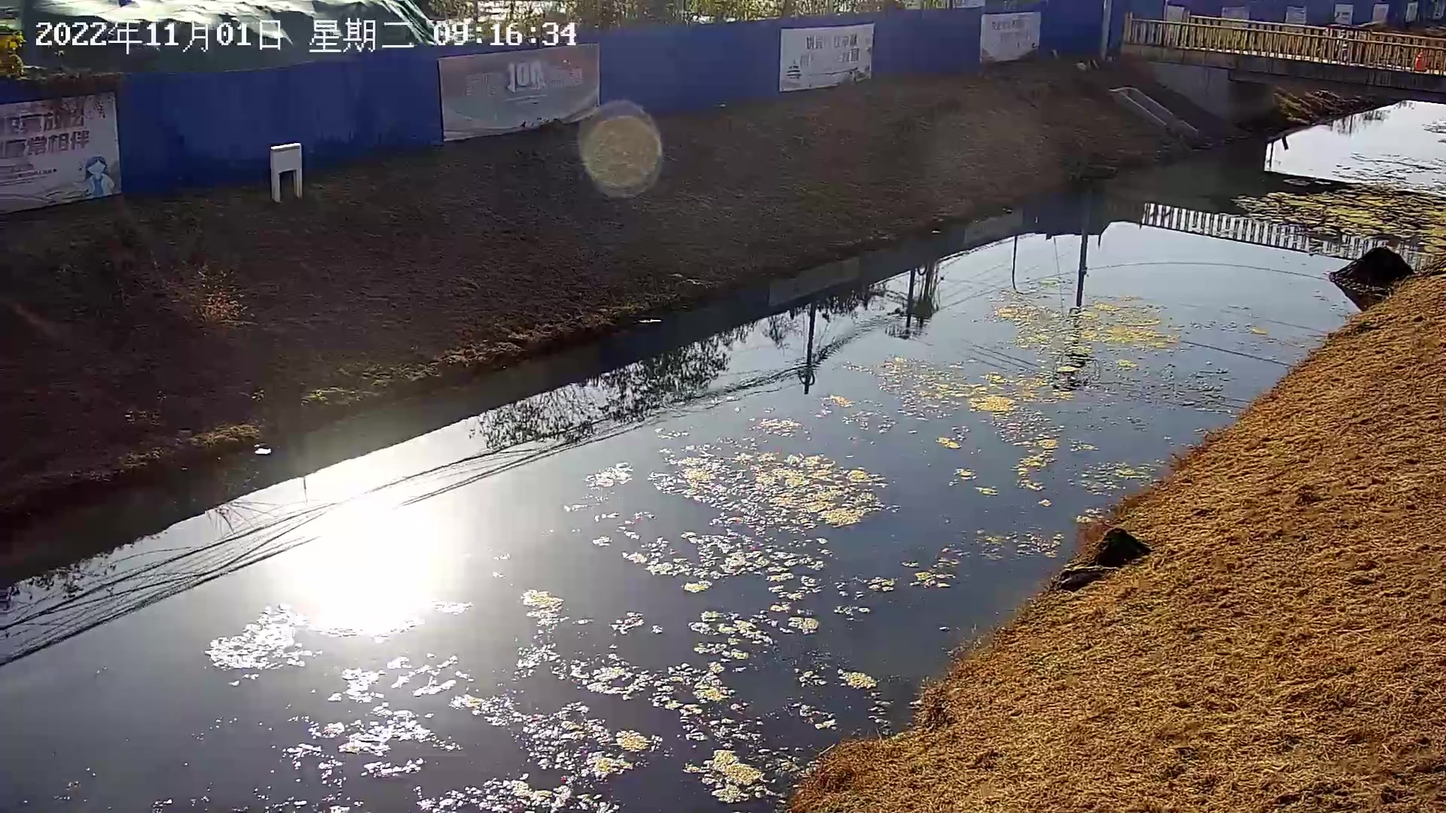floater: (511, 586, 780, 809), (291, 653, 516, 810), (819, 357, 1067, 494), (636, 413, 893, 534), (627, 536, 825, 639), (993, 277, 1189, 359), (1233, 184, 1446, 248), (201, 598, 313, 682), (837, 550, 966, 621), (556, 456, 638, 547), (785, 660, 875, 734)
